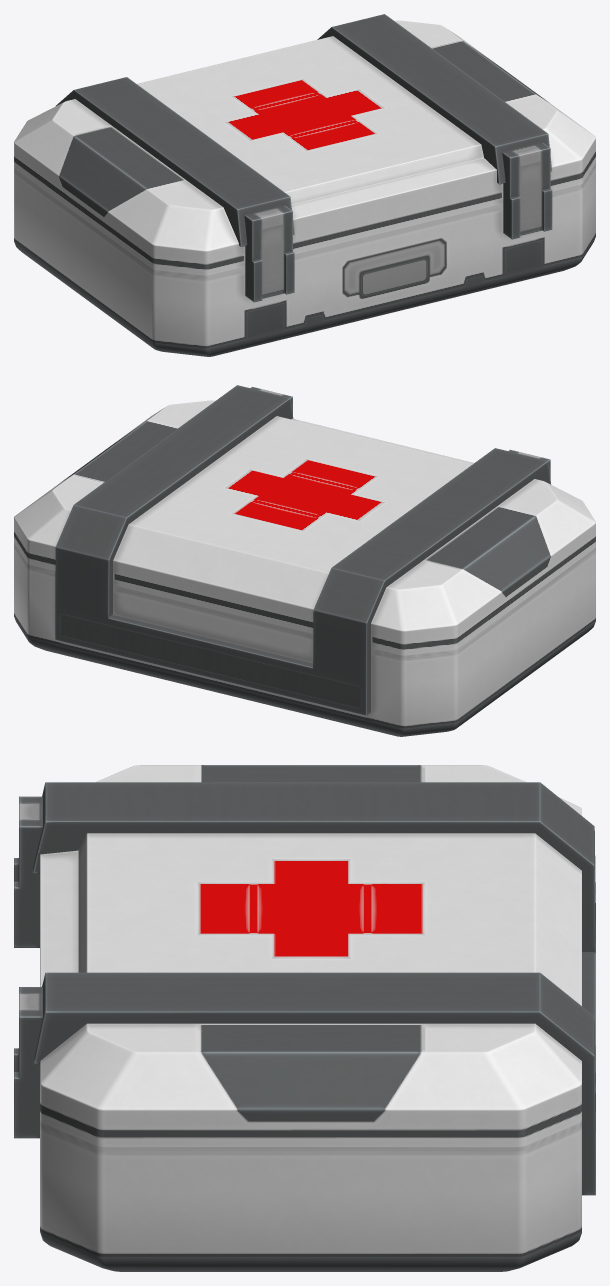
The model's file is MedFirstAid01.FBX.
3 renders of one model, top to bottom at view 1: azimuth 30°, elevation 25°; view 2: azimuth 150°, elevation 25°; view 3: azimuth 270°, elevation 25°, orthographic. The views are drawn at different scales.
Parts seen in each view (by area): view 1: MedFirstAid01; view 2: MedFirstAid01; view 3: MedFirstAid01.
Part boxes in pixels (<box>): MedFirstAid01: <box>14,14,595,356</box>; MedFirstAid01: <box>14,385,595,736</box>; MedFirstAid01: <box>14,765,595,1271</box>.
Size of what is drawn, in the model's own units: 0.5971 by 0.1877 by 0.449.
